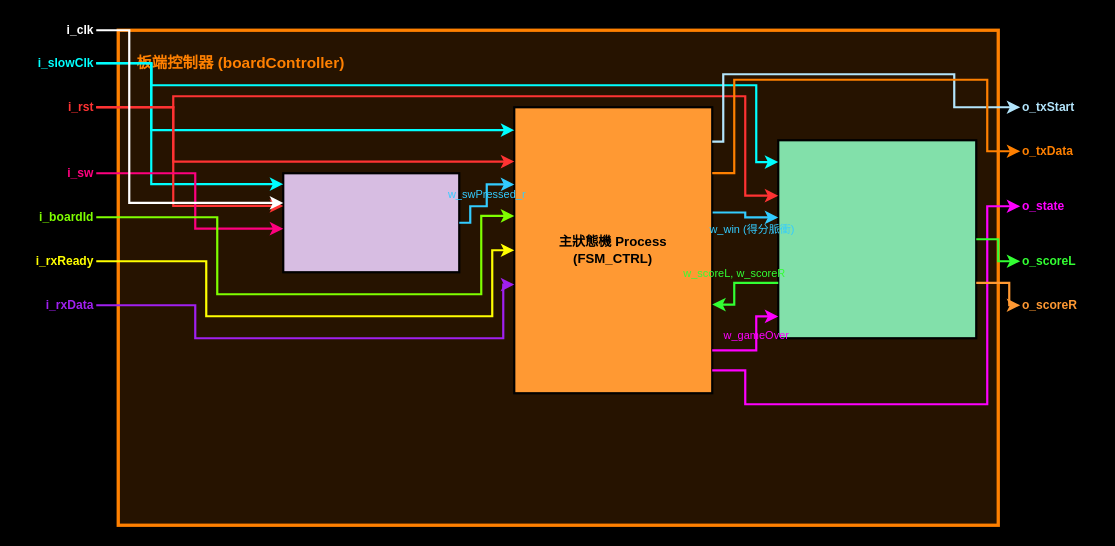
The diagram is 1115 pixels wide and 546 high, and some of its shapes have lost their labels. Each missing label, with the centre of its shape:
得分計數 Process (SCORE_CNT): [877,239]
按鍵去彈跳 Process (KEY_DEBOUNCE): [371,222]
